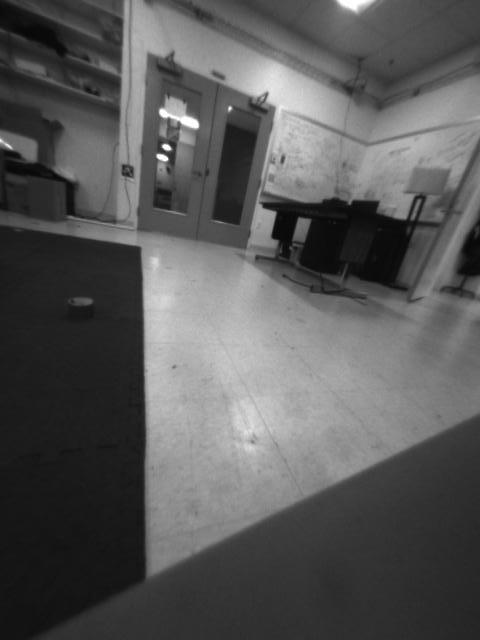dogtoy: (57, 283, 99, 322)
